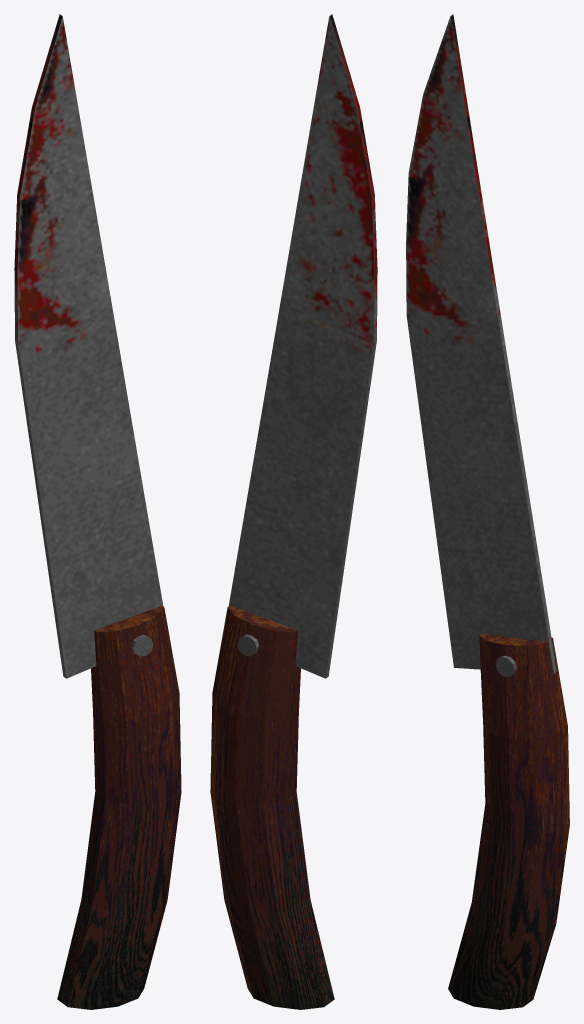
The model's file is Knife.fbx.
3 renders of one model, left to right at view 1: azimuth 30°, elevation 25°; view 2: azimuth 150°, elevation 25°; view 3: azimuth 330°, elevation 25°, orthographic.
Parts seen in each view (by area): view 1: Lamina, Cabo; view 2: Lamina, Cabo; view 3: Lamina, Cabo.
Boxes of the visible parts, x1,y1,x2,y2 form: Lamina: (14,14,163,678); Cabo: (57,605,181,1009); Lamina: (228,14,377,678); Cabo: (210,605,334,1009); Lamina: (406,14,556,674); Cabo: (448,633,569,1009).
Size of the model in its own units: 51.24 by 302 by 19.05.
3 materials, 3 textured.
